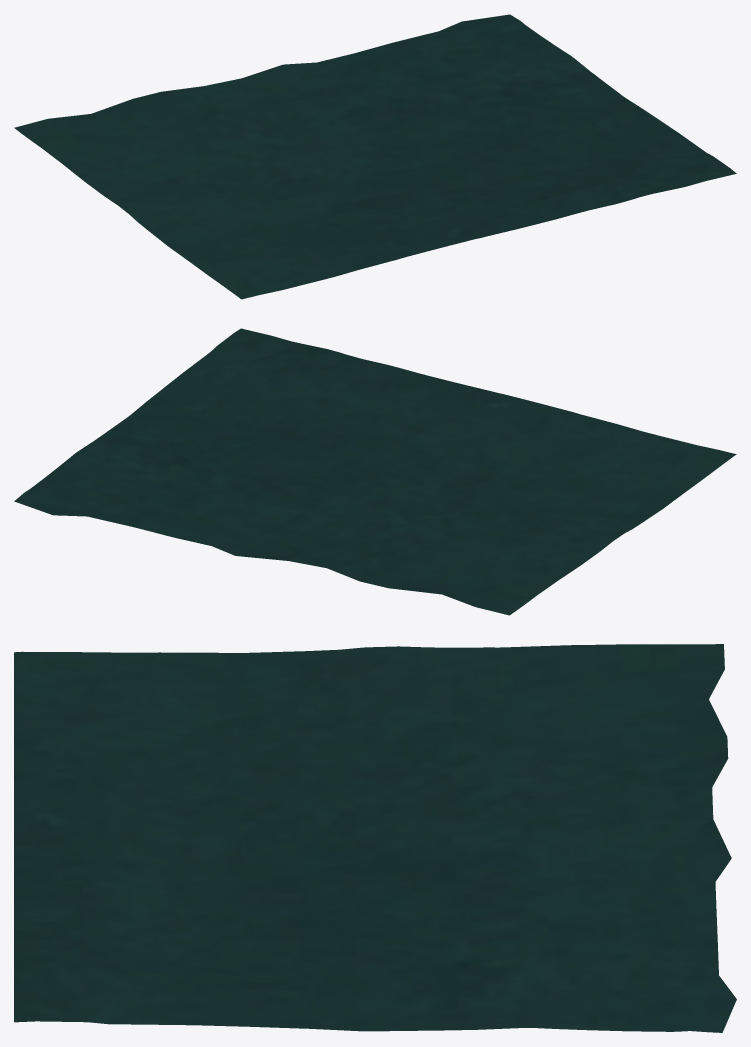
3 renders of one model, top to bottom at view 1: azimuth 30°, elevation 25°; view 2: azimuth 150°, elevation 25°; view 3: azimuth 270°, elevation 25°, orthographic. The views are drawn at different scales.
Size of the model in its own units: 52.22 by 0.8474 by 42.25.
Materials: 2 (2 with a texture image).
